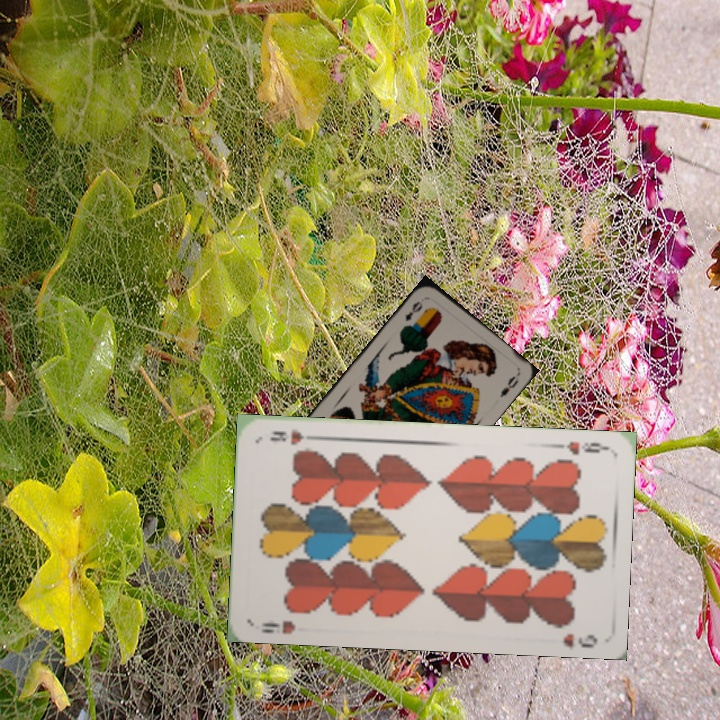EO: (401, 297, 425, 324)
H9: (551, 437, 610, 458), (257, 616, 297, 636)
